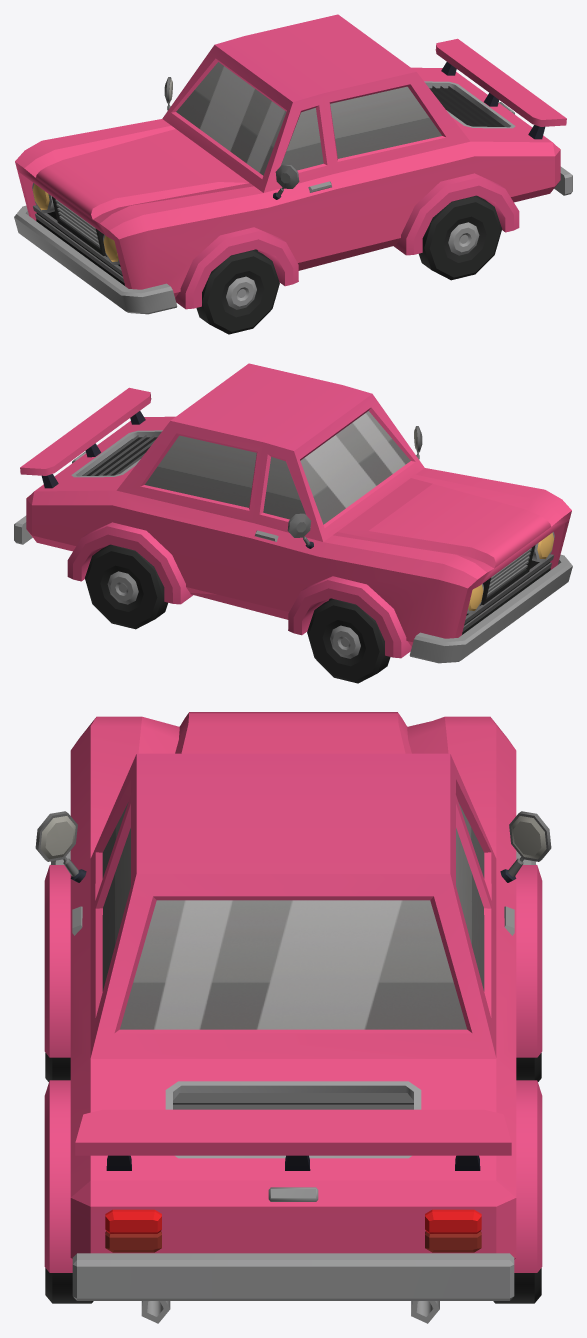
File: Car_9_G.gltf
3 renders of one model, top to bottom at view 1: azimuth 30°, elevation 25°; view 2: azimuth 150°, elevation 25°; view 3: azimuth 270°, elevation 25°, orthographic. The views are drawn at different scales.
Visible parts, largest first — view 1: Car_9_G, RL, FL; view 2: Car_9_G, RR, FR; view 3: Car_9_G, RL, RR.
Boxes of the visible parts, <box> form: Car_9_G: <box>14,14,572,314</box>; RL: <box>419,195,501,280</box>; FL: <box>196,249,279,334</box>; Car_9_G: <box>14,363,572,663</box>; RR: <box>85,544,167,629</box>; FR: <box>307,598,390,683</box>; Car_9_G: <box>35,712,551,1323</box>; RL: <box>45,1268,93,1303</box>; RR: <box>493,1268,541,1303</box>.
Bounding box in the file's own units: 3.1 × 1.28 × 1.51.
4 materials, 4 textured.
